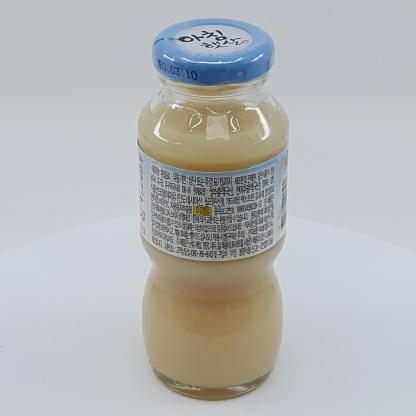------180ML: (137, 19, 289, 398)
